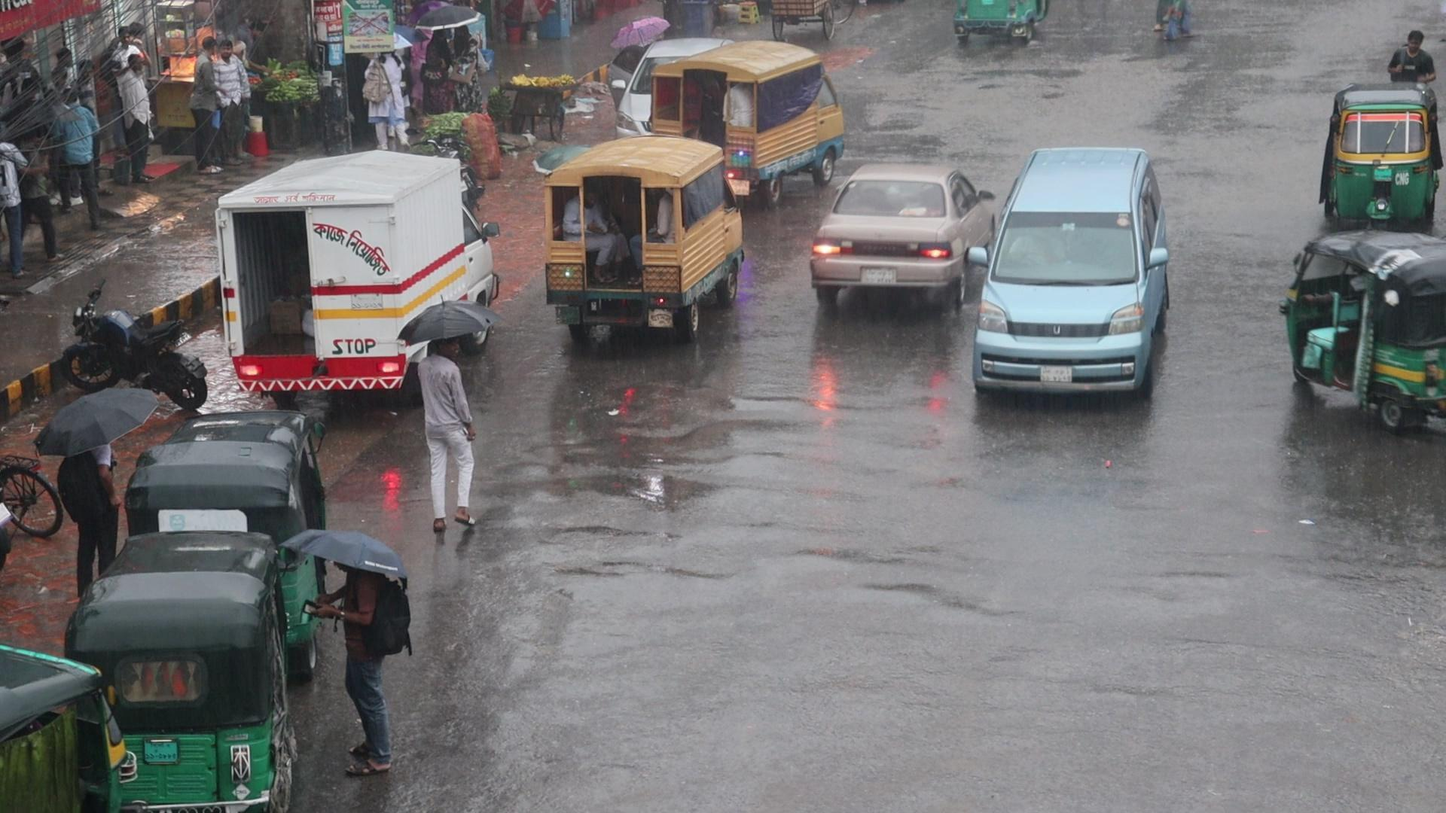Car: (967, 145, 1174, 409), (808, 160, 996, 317)
Truck: (541, 132, 746, 339)
